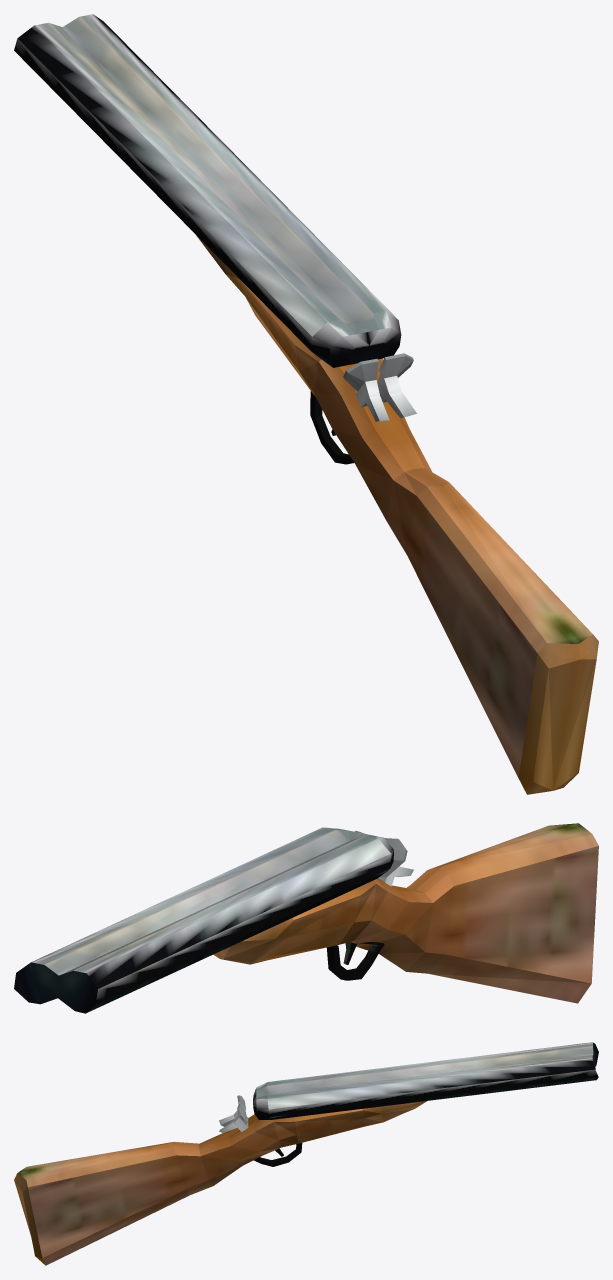
The model's file is shoot0020.obj.
3 renders of one model, top to bottom at view 1: azimuth 30°, elevation 25°; view 2: azimuth 150°, elevation 25°; view 3: azimuth 270°, elevation 25°, orthographic. The views are drawn at different scales.
Visible parts, largest first — view 1: Cube, Cube.001, Cube.003; view 2: Cube, Cube.001, Cube.002, Cube.003; view 3: Cube, Cube.001, Cube.003, Cube.002.
Part boxes in pixels (left/top/right/bottom): Cube: left=196, top=235, right=598, bottom=794; Cube.001: left=14, top=14, right=401, bottom=367; Cube.003: left=343, top=353, right=416, bottom=421; Cube: left=213, top=823, right=598, bottom=1003; Cube.001: left=14, top=827, right=393, bottom=1013; Cube.002: left=326, top=942, right=384, bottom=980; Cube.003: left=355, top=830, right=413, bottom=886; Cube: left=14, top=1101, right=426, bottom=1265; Cube.001: left=253, top=1042, right=598, bottom=1119; Cube.003: left=219, top=1095, right=248, bottom=1132; Cube.002: left=254, top=1143, right=302, bottom=1166.
Bounding box in the file's own units: 0.2249 × 0.9082 × 2.22.
Materials: 1 (1 with a texture image).
